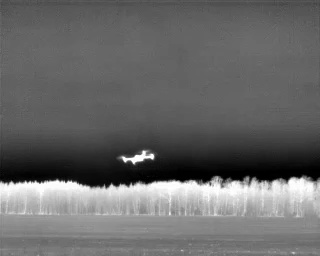DRONE: (113, 145, 162, 170)
